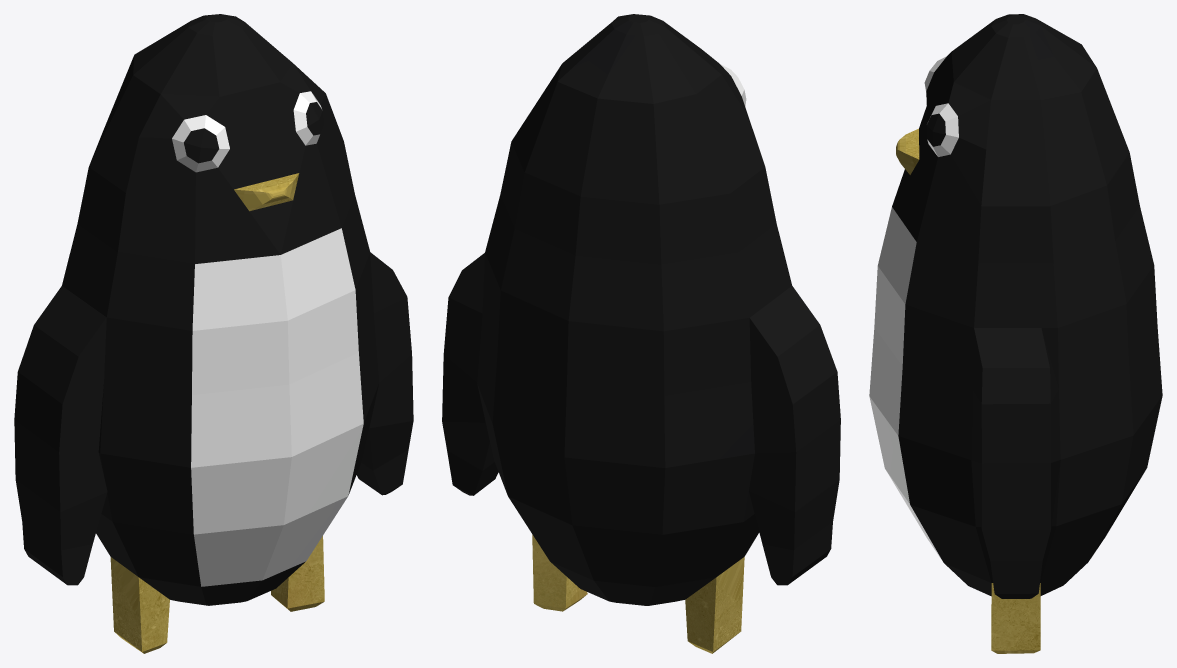
The model's file is penguin11.glb.
3 views of the same model, side by side, from view 1: azimuth 30°, elevation 25°; view 2: azimuth 150°, elevation 25°; view 3: azimuth 270°, elevation 25° (orthographic). The views are drawn at different scales.
Parts seen in each view (by area): view 1: Cone; view 2: Cone; view 3: Cone.
Part boxes in pixels (<box>): Cone: <box>14,14,413,653</box>; Cone: <box>442,14,840,653</box>; Cone: <box>869,14,1162,653</box>.
Size of the model in its own units: 1.72 by 2.78 by 1.24.
3 materials, 3 textured.
